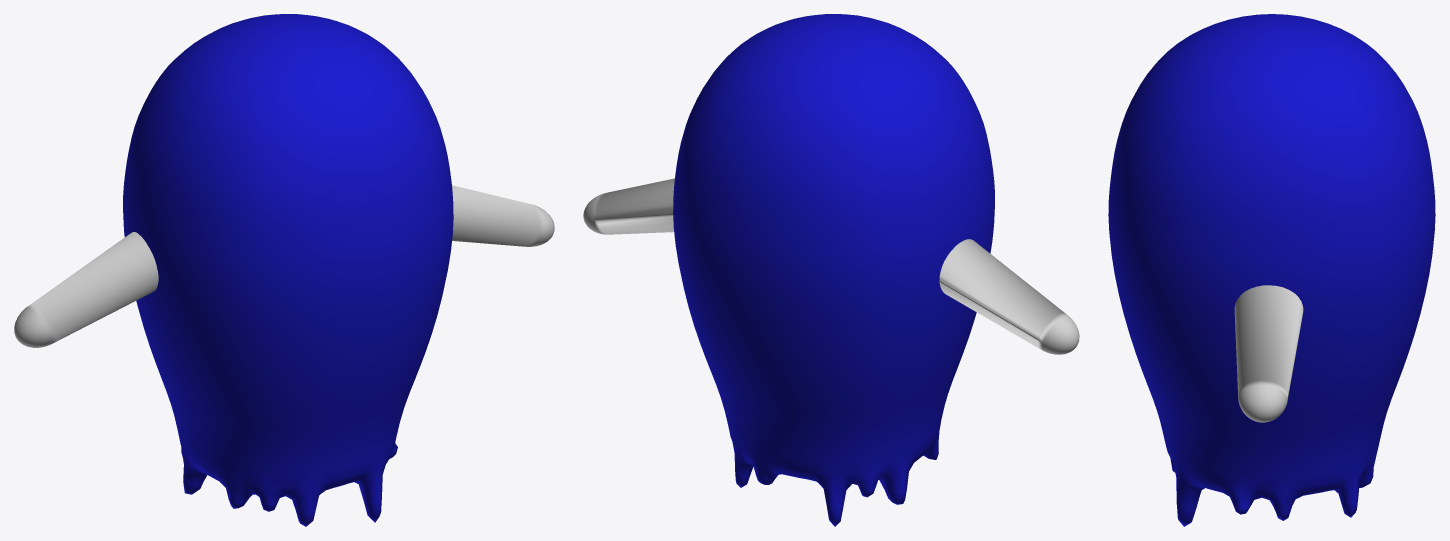
Rendered from beforeThrow_000010.obj.
3 views of the same model, side by side, from view 1: azimuth 30°, elevation 25°; view 2: azimuth 150°, elevation 25°; view 3: azimuth 270°, elevation 25° (orthographic). The views are drawn at different scales.
Visible parts, largest first — view 1: Cube, Sphere.001, Sphere; view 2: Cube, Sphere.001, Sphere; view 3: Cube, Sphere.
Part boxes in pixels (x1,y1,x2,y2): Cube: [123, 14, 453, 526]; Sphere.001: [14, 232, 158, 347]; Sphere: [452, 185, 554, 246]; Cube: [673, 14, 994, 526]; Sphere.001: [939, 239, 1079, 354]; Sphere: [583, 178, 674, 234]; Cube: [1108, 14, 1435, 526]; Sphere: [1234, 285, 1303, 422].
Bounding box in the file's own units: 0.5284 × 0.4582 × 0.2859.
